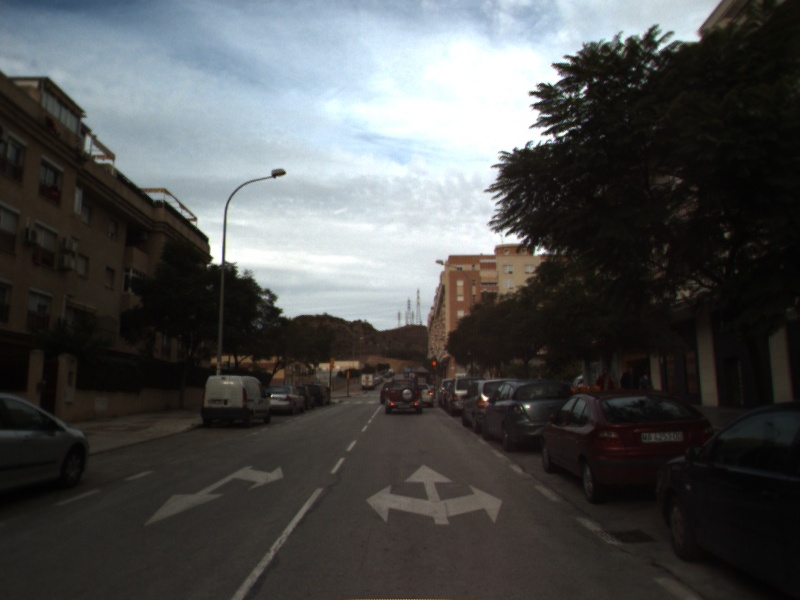STRAIGHT_LEFT_RIGHT: (364, 462, 505, 527)
